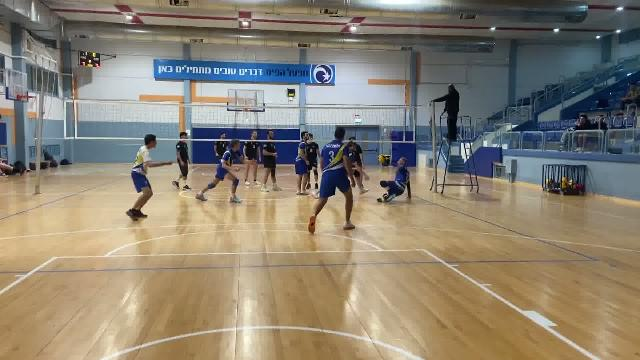ball: (375, 152, 388, 162)
